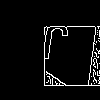J: (37, 22, 71, 71)
